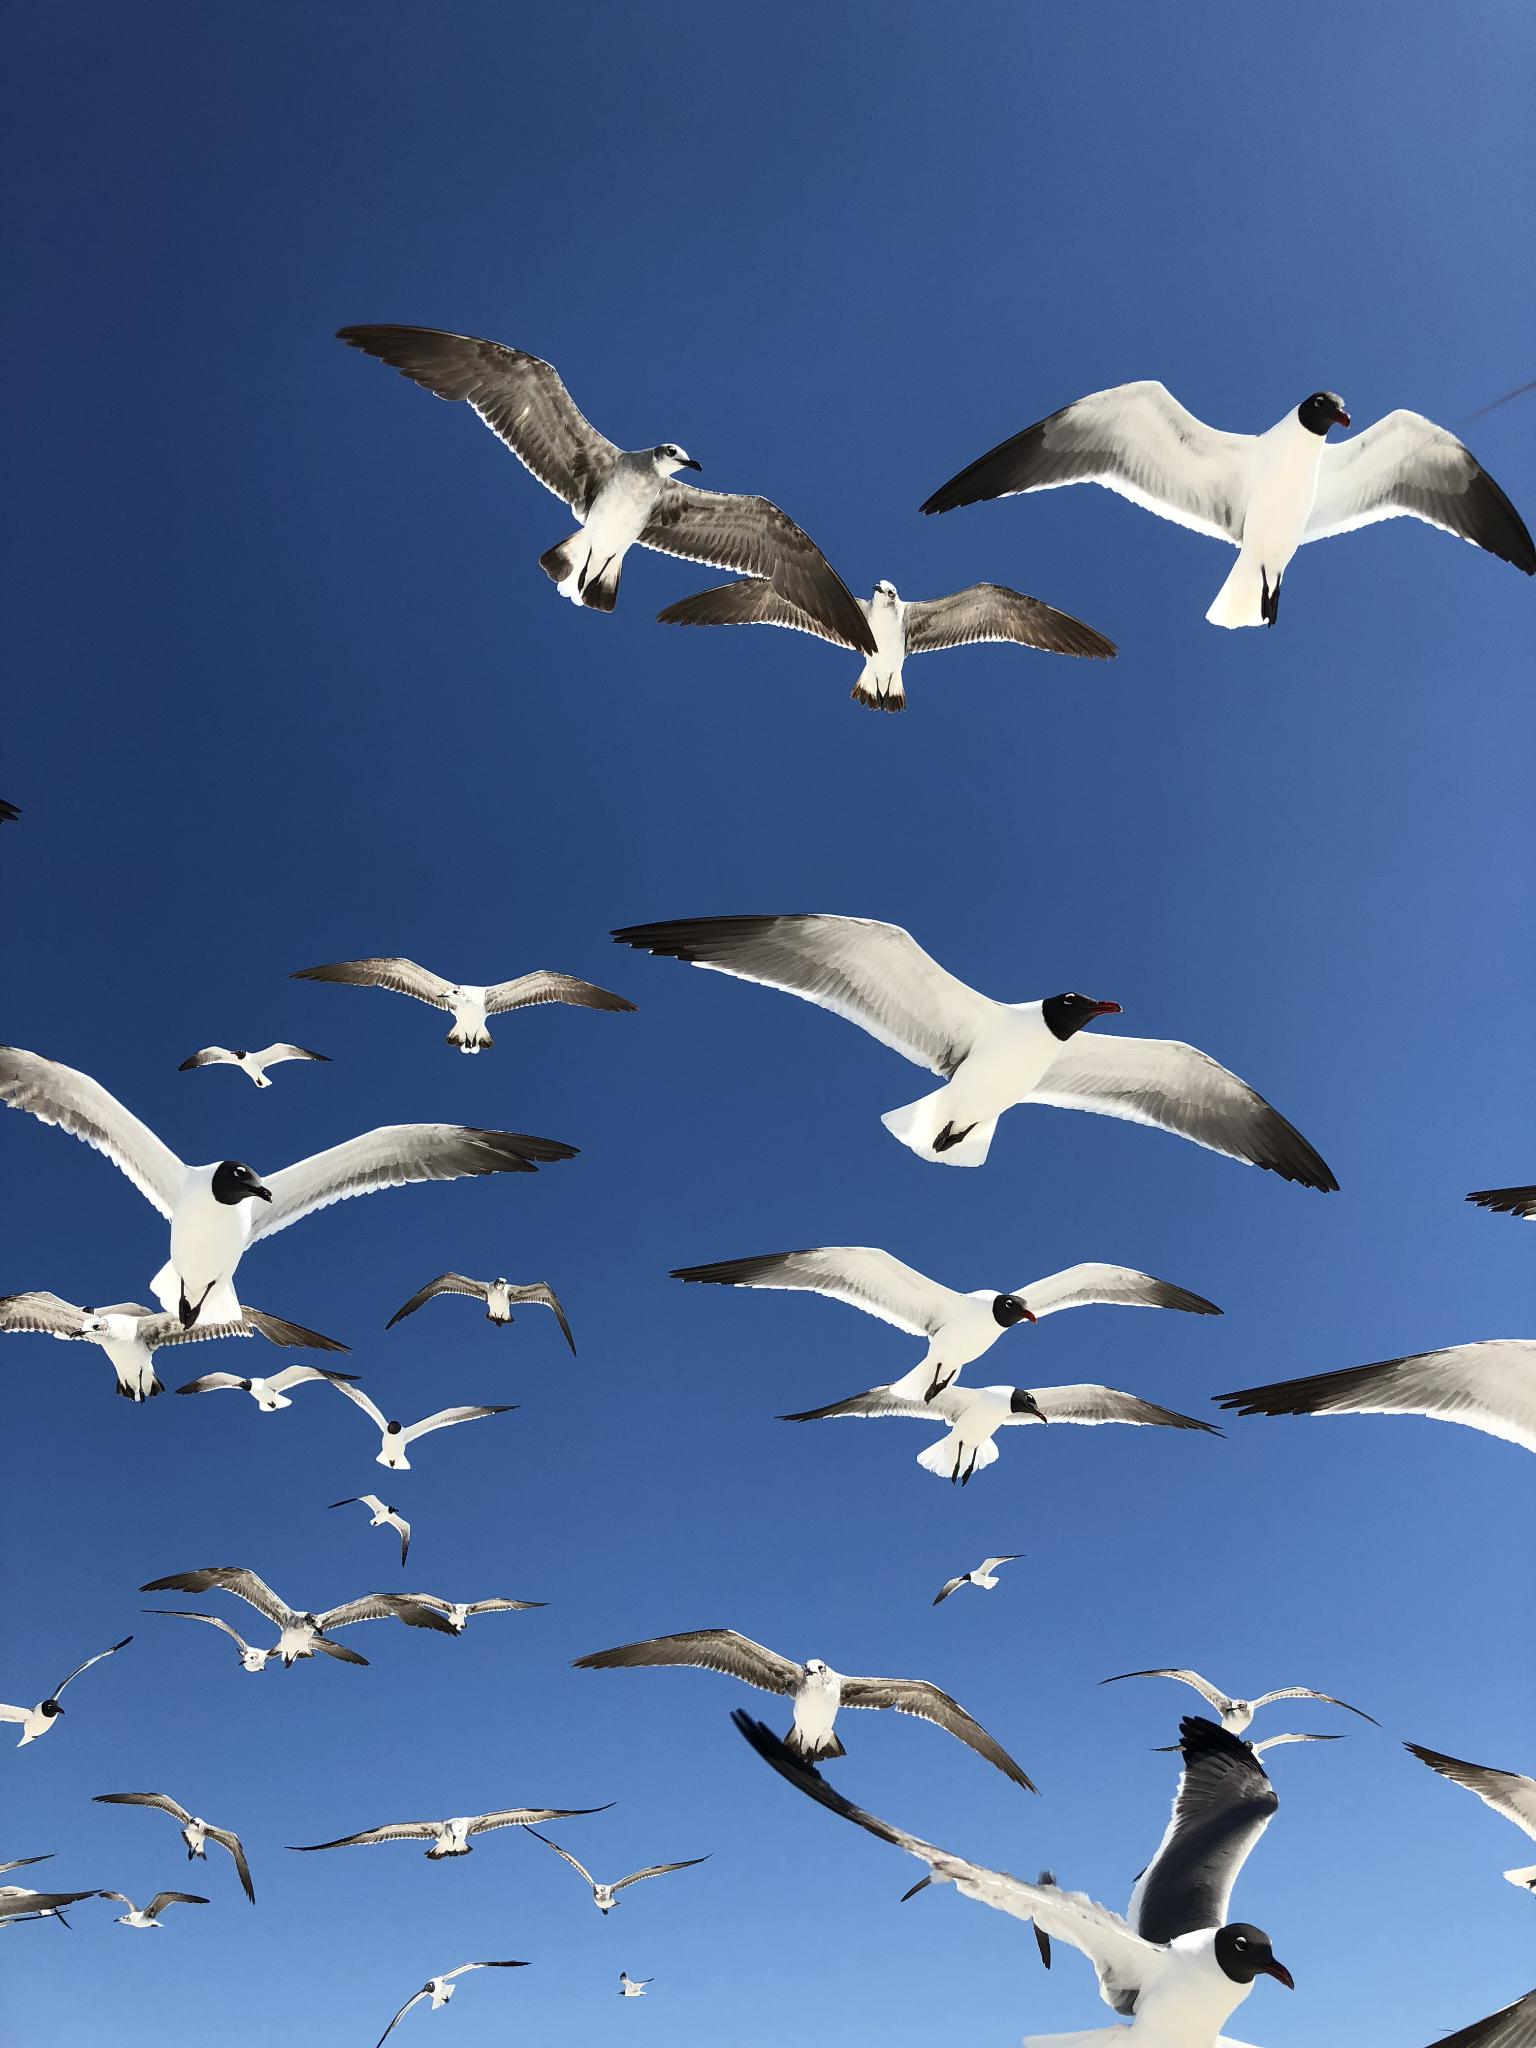bird: (328, 1937, 555, 2043), (153, 1014, 332, 1103), (920, 1530, 1039, 1619)
